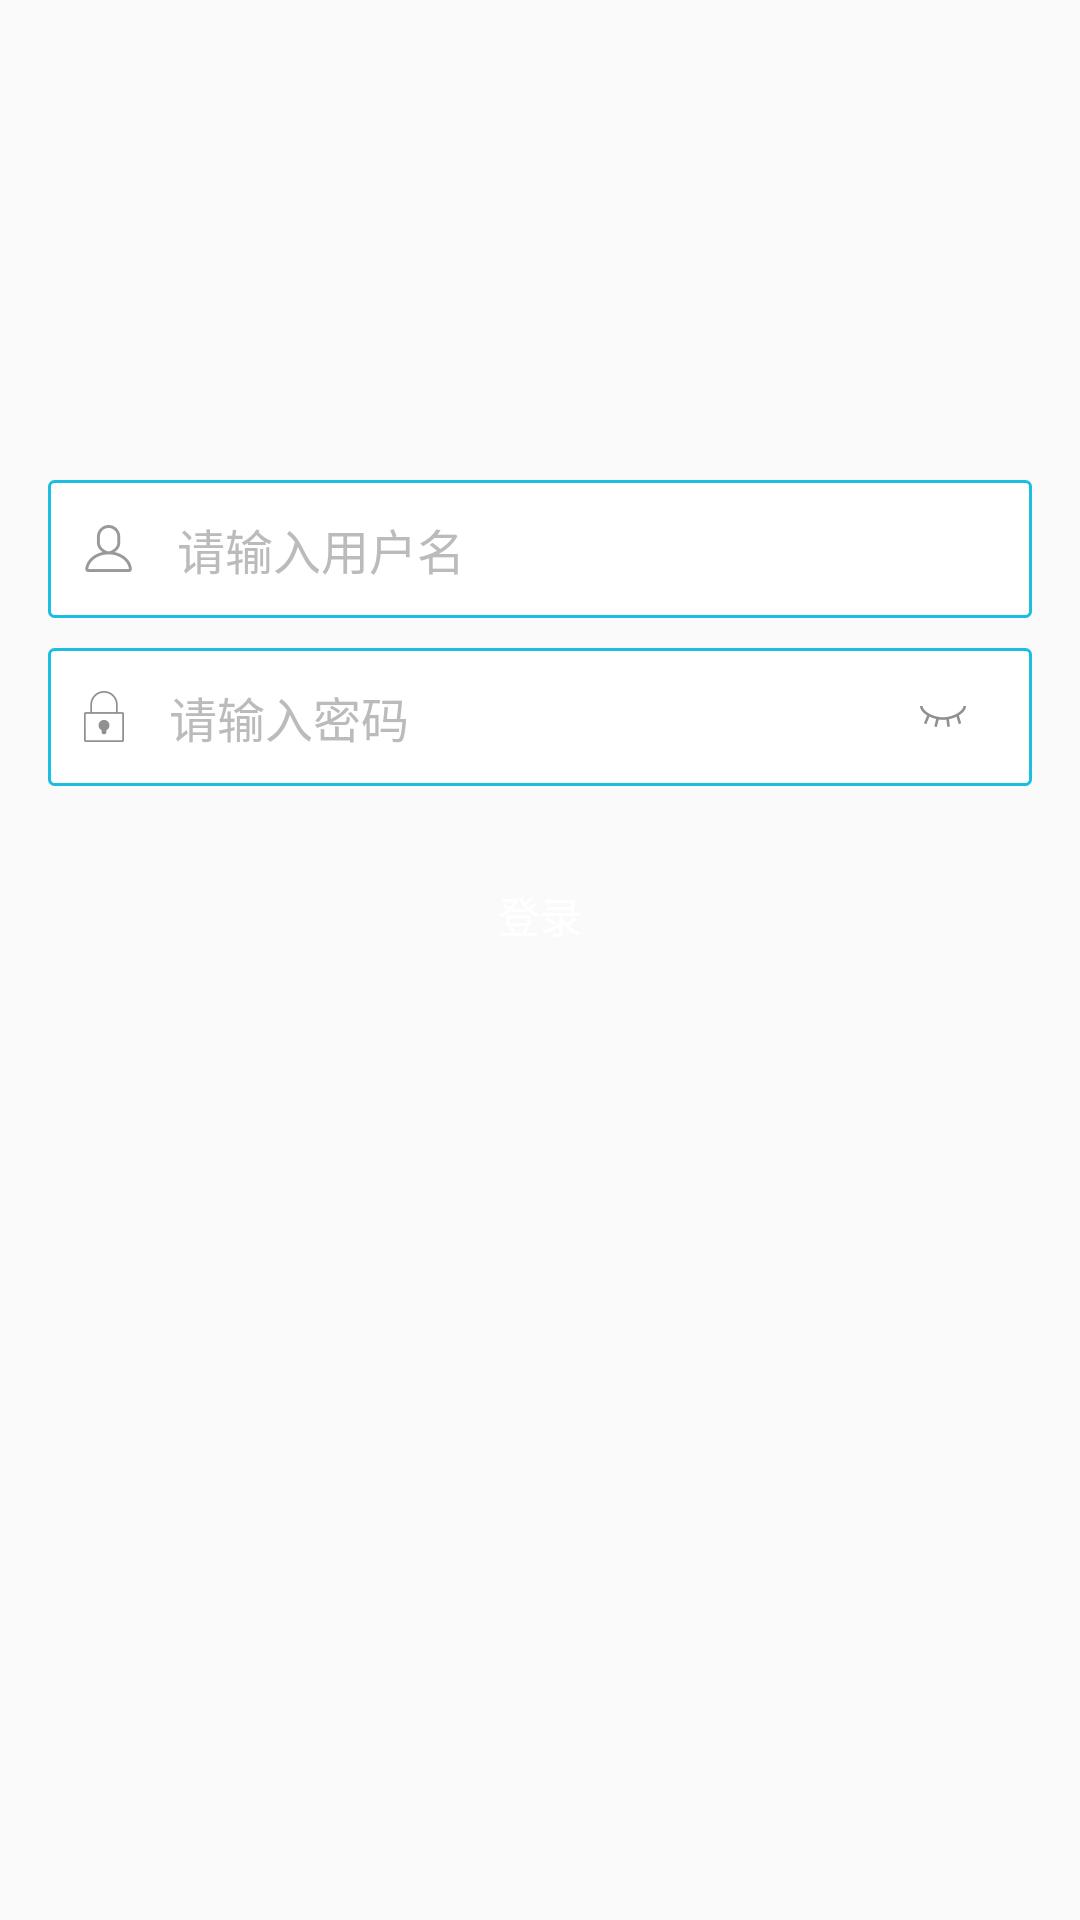

Screen size 1080 × 1920. Icon name, then its box in pixels as (x1, y1, x2, y2):
password: (84, 691, 124, 742)
password show or hide: (920, 706, 966, 727)
username: (85, 525, 132, 572)
